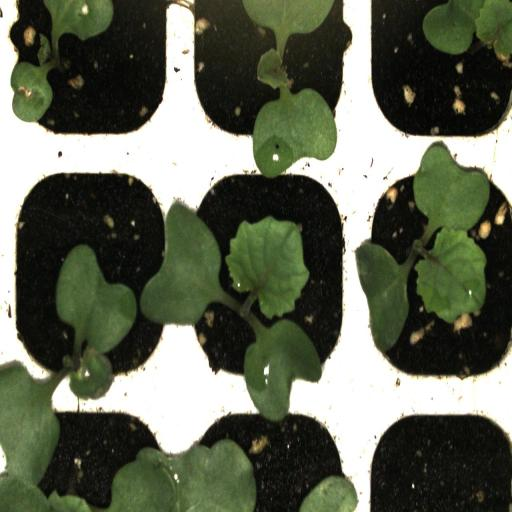seedling: (2, 155, 186, 396), (186, 156, 354, 393), (356, 151, 512, 389), (185, 0, 358, 150)
weak: (6, 0, 185, 148)
